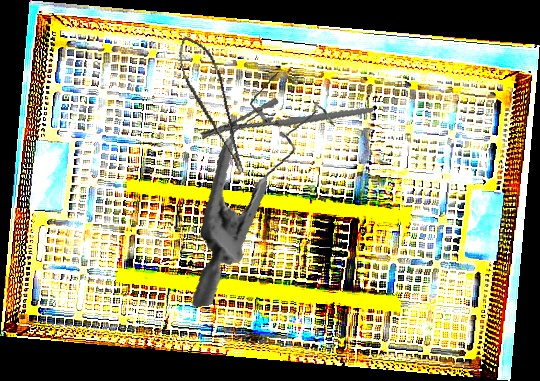Micro Scissor: (171, 29, 250, 182)
Needle Holder: (199, 76, 374, 170)
Speculum: (164, 66, 355, 308)
